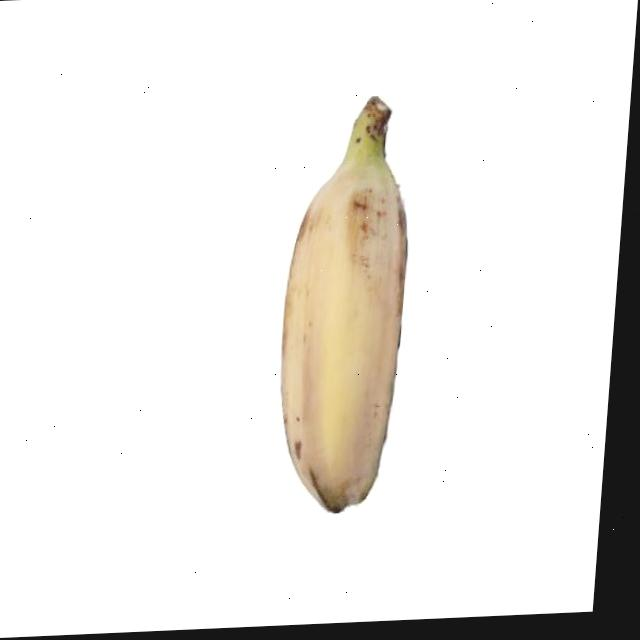banana: (261, 87, 433, 520)
